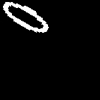chain: (3, 2, 48, 31)
